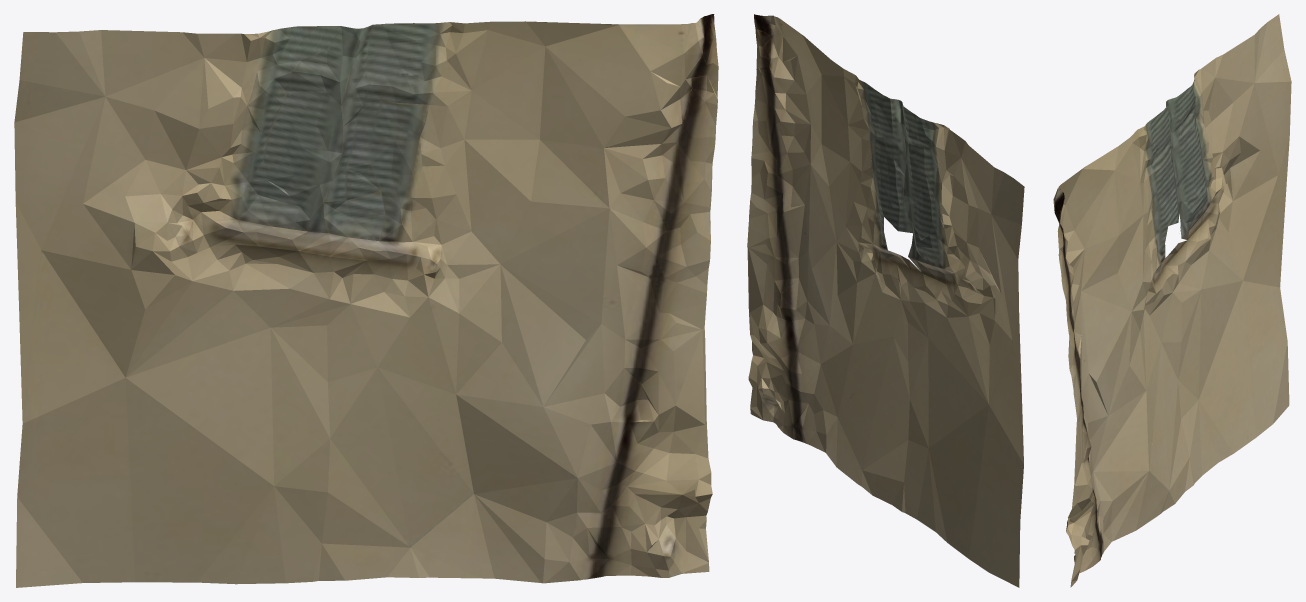
3 renders of one model, left to right at view 1: azimuth 30°, elevation 25°; view 2: azimuth 150°, elevation 25°; view 3: azimuth 270°, elevation 25°, orthographic. The views are drawn at different scales.
Size of the model in its own units: 3.35 by 3.35 by 1.85.
Materials: 3 (3 with a texture image).
